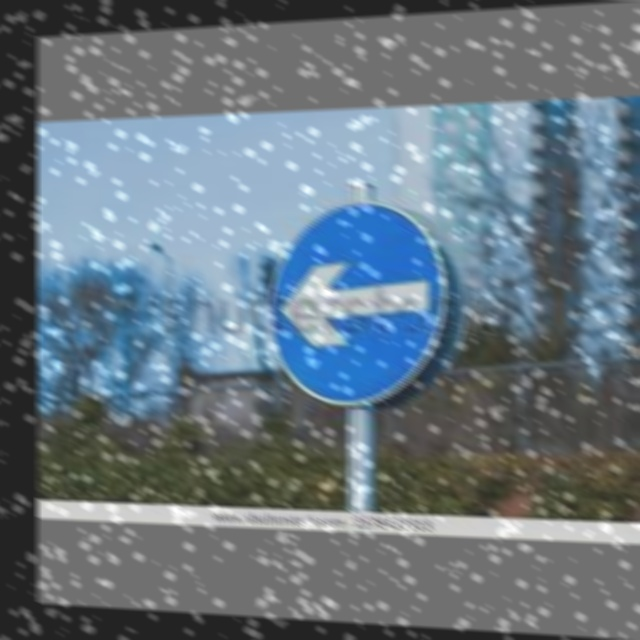Compulsory_Turn_Left: (268, 198, 458, 415)
